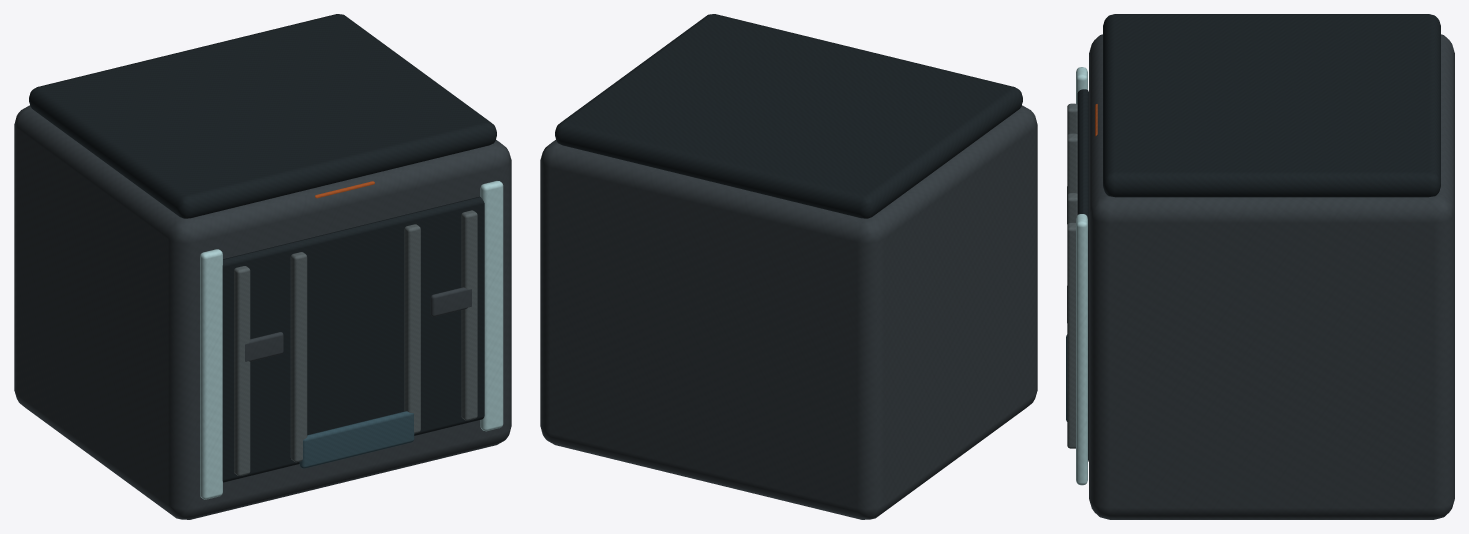
Rendered from CargoCrate.fbx.
3 renders of one model, left to right at view 1: azimuth 30°, elevation 25°; view 2: azimuth 150°, elevation 25°; view 3: azimuth 270°, elevation 25°, orthographic. The views are drawn at different scales.
Parts seen in each view (by area): view 1: CargoCrate_Mesh; view 2: CargoCrate_Mesh; view 3: CargoCrate_Mesh.
Part boxes in pixels (box(x1,y1,x2,y2)): CargoCrate_Mesh: box(14, 14, 511, 519); CargoCrate_Mesh: box(540, 14, 1037, 519); CargoCrate_Mesh: box(1066, 14, 1454, 519).
Size of the model in its own units: 90 by 81 by 82.9.
6 materials, 6 textured.
